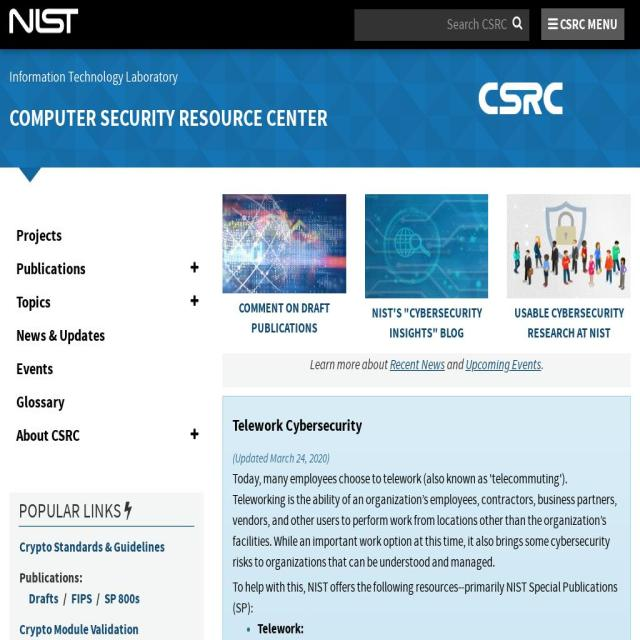button: (436, 48, 630, 114), (9, 218, 204, 252), (9, 252, 204, 286), (9, 285, 204, 319), (9, 318, 204, 352), (9, 352, 204, 386), (9, 385, 204, 419), (9, 418, 204, 452), (0, 4, 88, 46), (540, 8, 624, 40), (512, 0, 522, 48)
field: (354, 8, 529, 41)
heading: (10, 102, 328, 133), (371, 304, 482, 343), (514, 304, 624, 343), (238, 298, 330, 337), (9, 66, 178, 86), (232, 413, 362, 438), (19, 498, 124, 524)
image: (364, 194, 489, 298), (507, 194, 631, 298), (222, 194, 346, 294), (479, 82, 563, 114), (10, 8, 78, 34)
link: (19, 536, 165, 556), (19, 619, 139, 639), (465, 356, 541, 374), (389, 356, 445, 374), (104, 588, 140, 608), (29, 588, 59, 608), (71, 588, 92, 608)
text: (232, 470, 618, 572), (233, 578, 618, 618), (16, 257, 86, 280), (232, 451, 330, 467), (16, 423, 81, 447), (309, 356, 390, 374), (19, 568, 82, 588), (258, 619, 304, 639), (16, 290, 52, 313), (185, 252, 204, 286), (185, 285, 204, 319), (185, 418, 204, 452), (587, 14, 617, 34), (560, 14, 588, 34), (444, 356, 466, 374), (59, 588, 71, 608), (92, 588, 104, 608), (540, 356, 544, 374)
